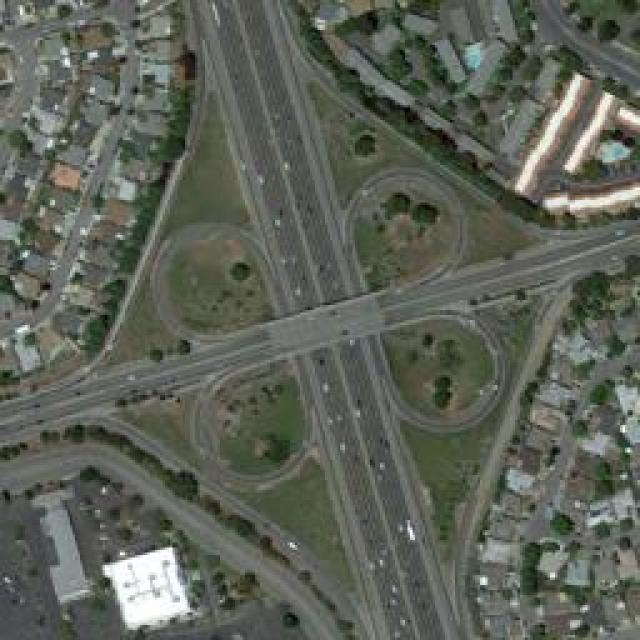Highway: (1, 0, 639, 638)
